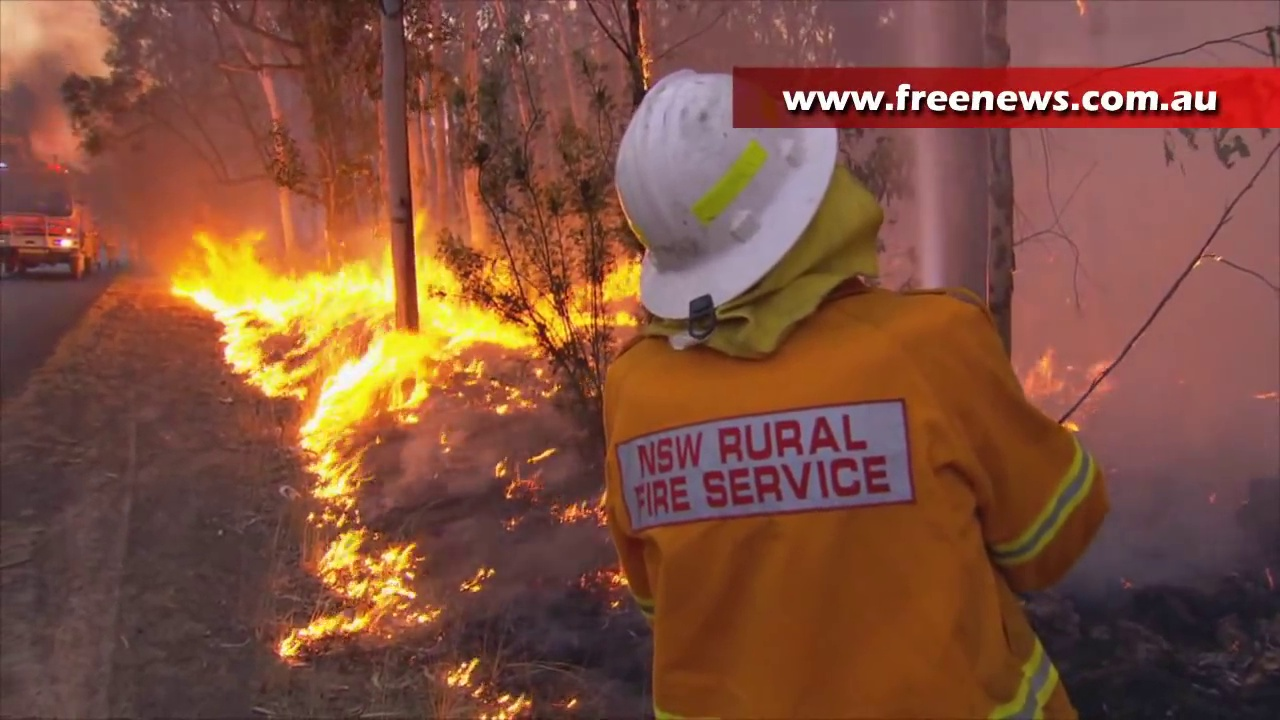fire: (194, 231, 635, 417), (273, 410, 424, 666), (454, 657, 527, 720), (1030, 350, 1063, 396)
